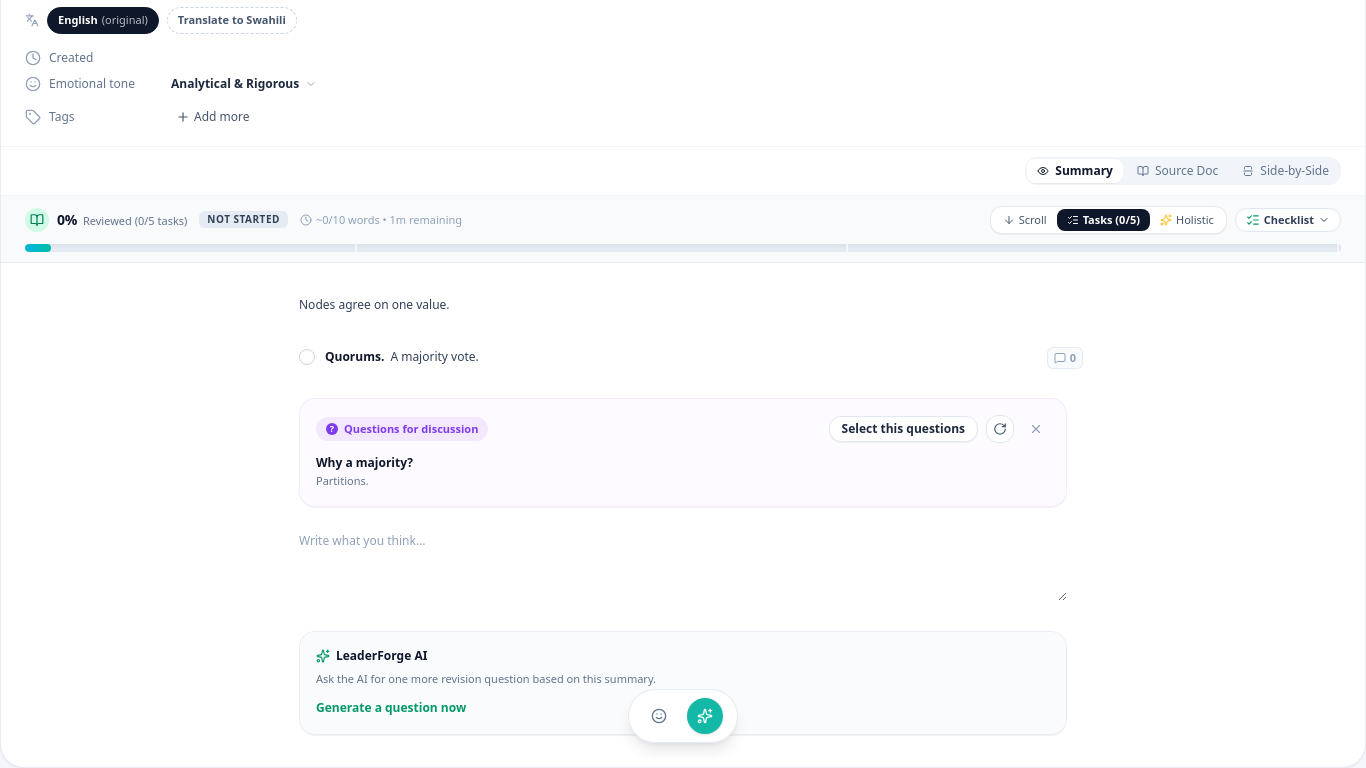
Test: MainEditorView: rating and question generation › no longer offers the canned "additional key point" action
The image size is (1366, 768).
(page scrolled)
What coordinates should you click on to do the following:
click the button titled "leaderforge ai assistant"
I would click on:
 (705, 716)
Its box is [687,698,723,734].
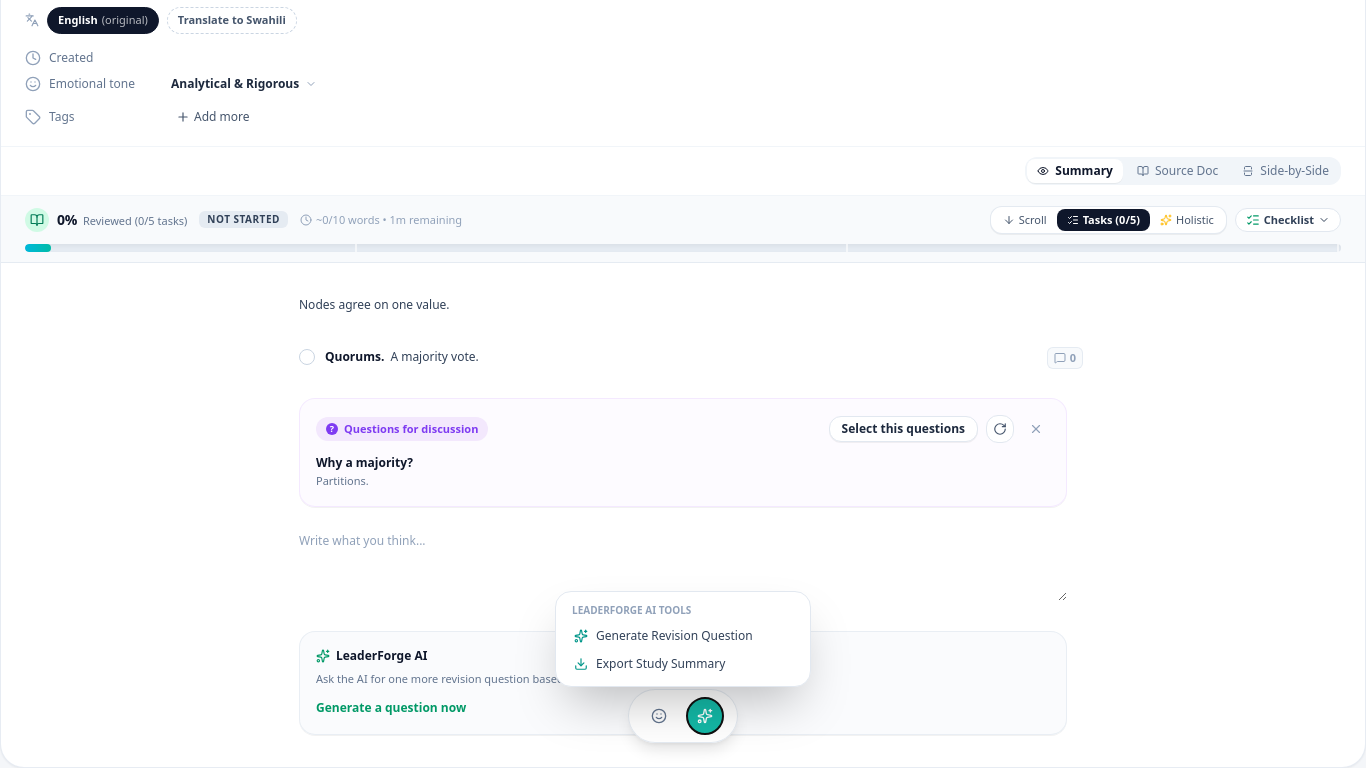
Expected: the text "Generate Revision Question" is shown, [596,628,753,644]
